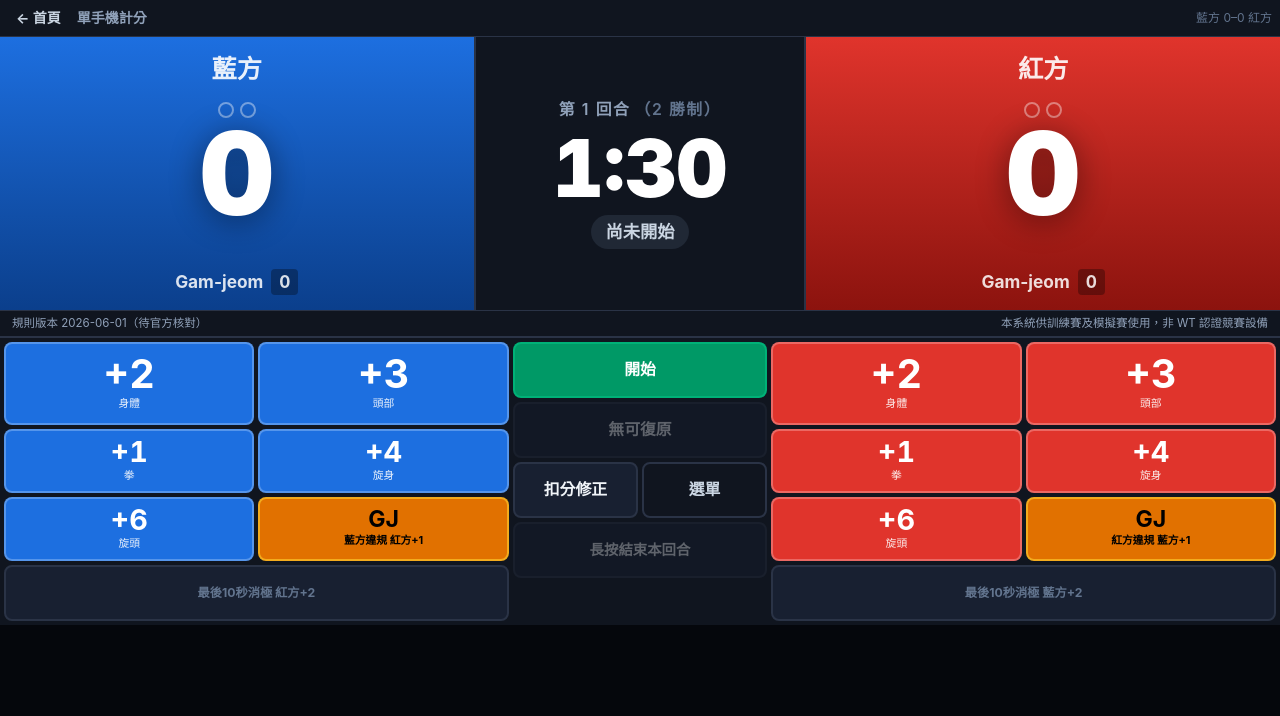
Test: 單機計分頁：危險操作防護 › 比賽結束後所有計分按鈕停用
The width and height of the screenshot is (1280, 716).
Click the button "開始" at (640, 370), box [513,342,767,398]
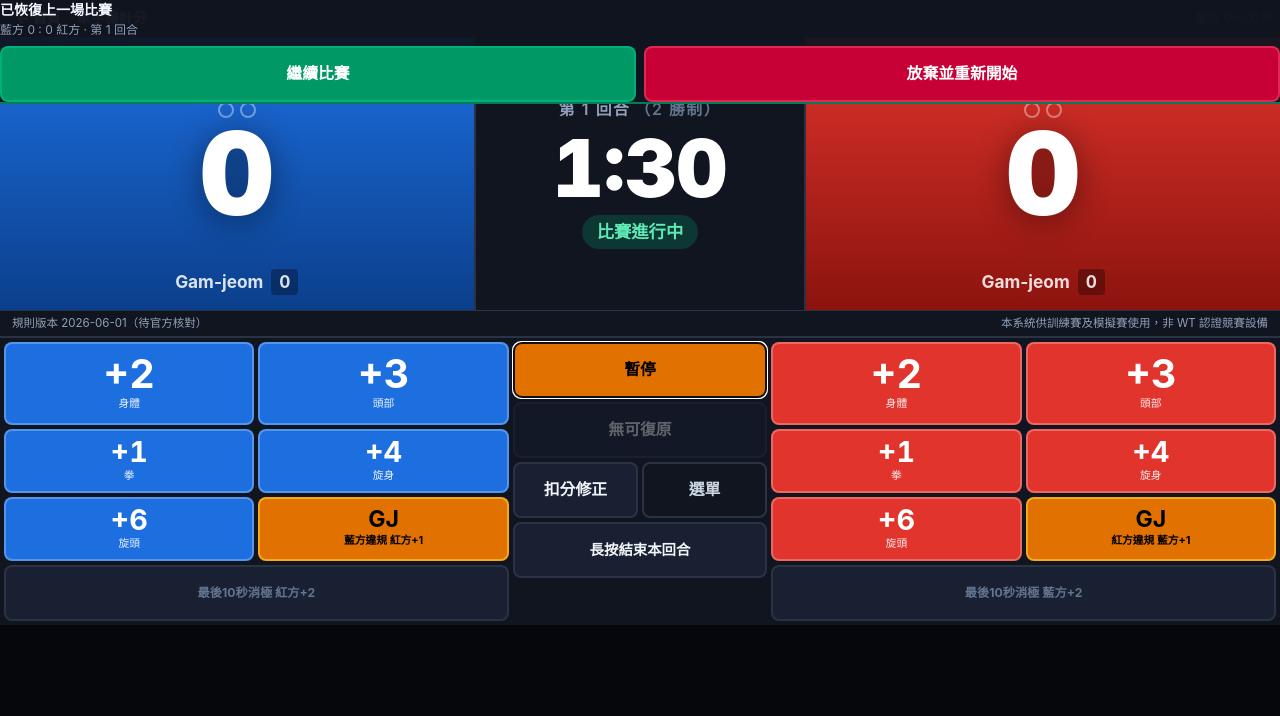
Click the button "選單" at (705, 490), box [642,462,767,518]
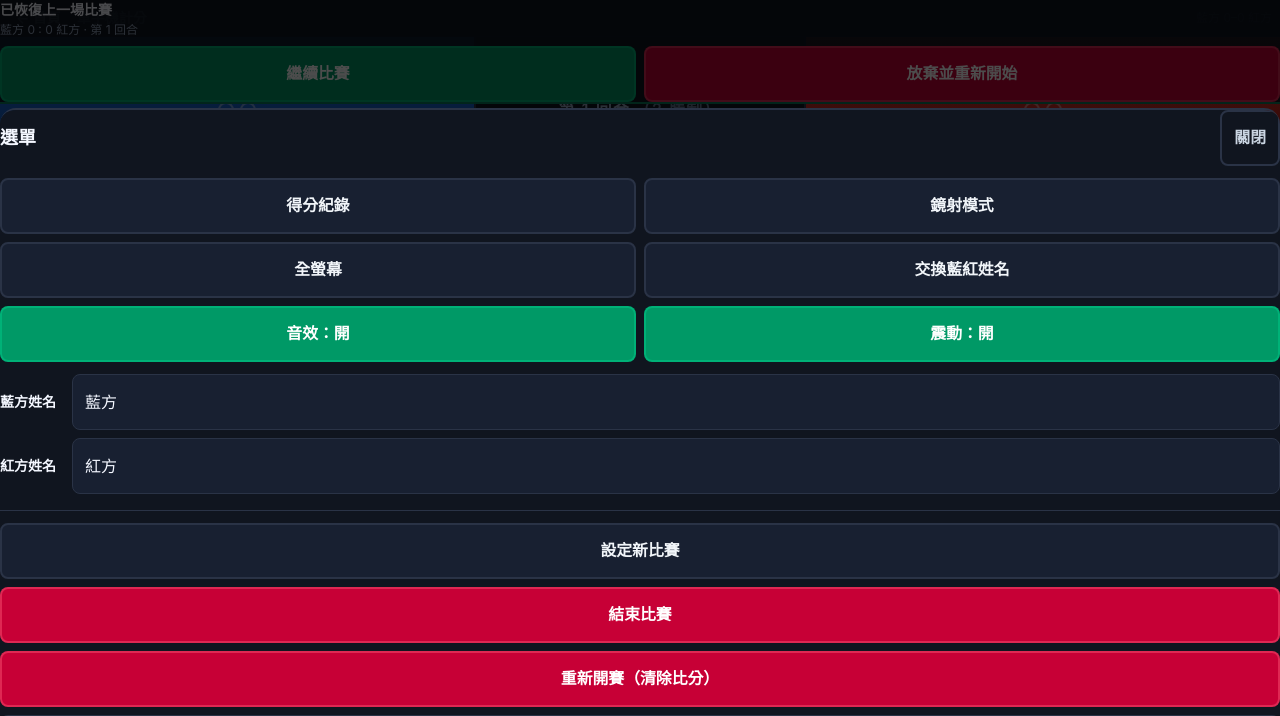
Click the button "結束比賽" at (640, 615), box [0,587,1279,643]
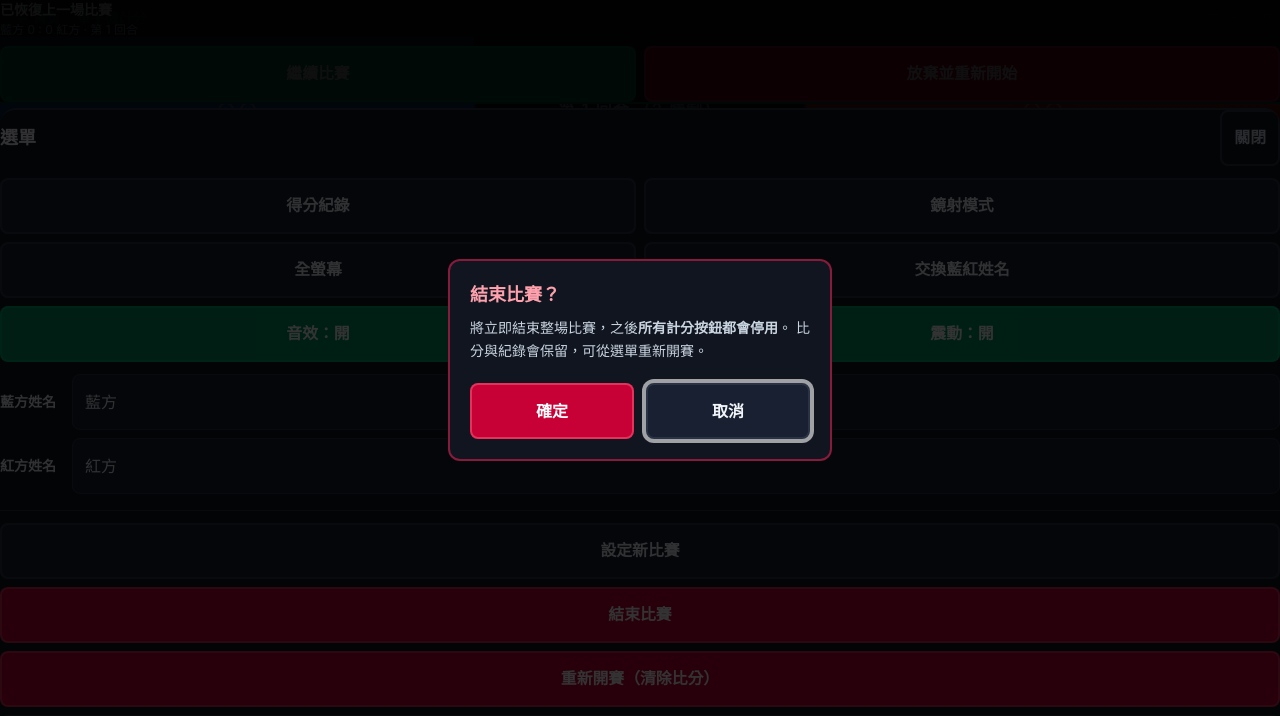
Click the button "確定" at (552, 411), box [470,383,634,439]
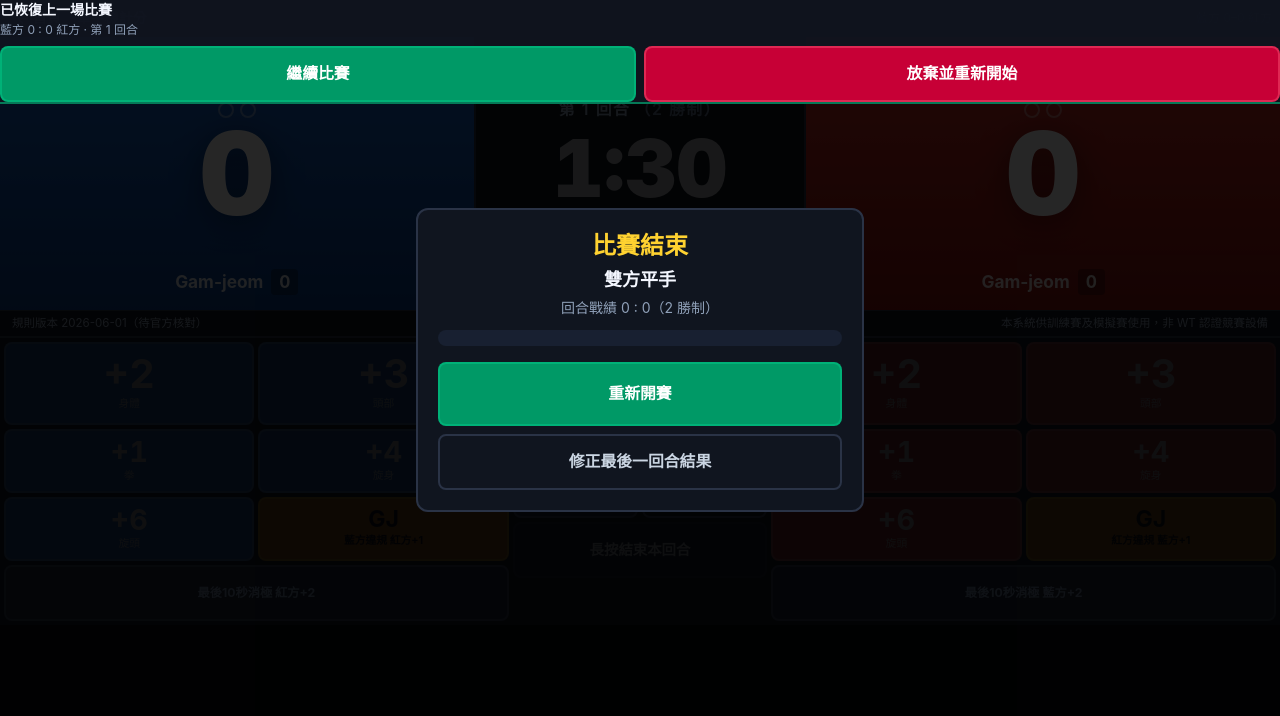
Check: the button with aria-label "紅方 旋轉頭部 得 6 分" is disabled, box [771,497,1022,561]
Check: the button with aria-label "藍方違規，紅方加 1 分" is disabled, box [258,497,509,561]
